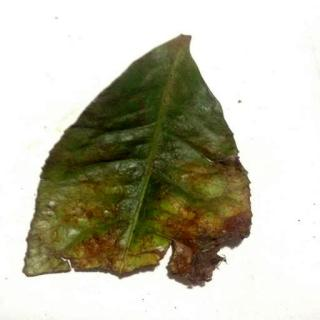Red Leaf Spot: (24, 36, 254, 289)
